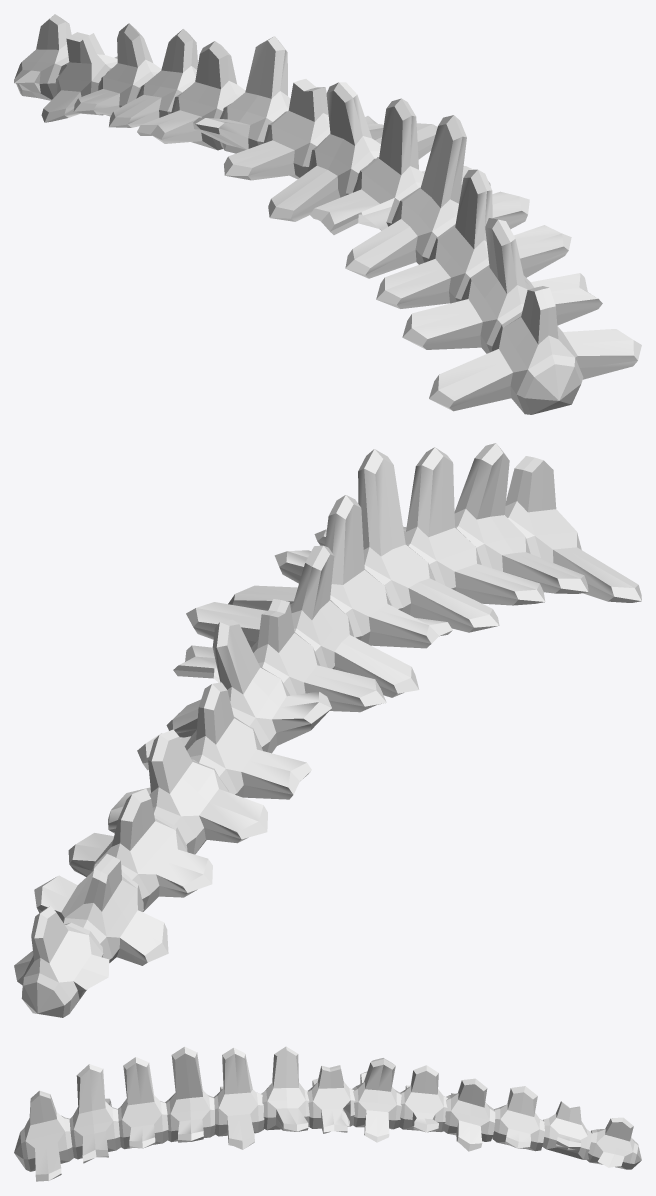
The model's file is Drg_Bone_01.FBX.
The picture shows the model from 3 angles, top to bottom: view 1: azimuth 30°, elevation 25°; view 2: azimuth 150°, elevation 25°; view 3: azimuth 270°, elevation 25°; orthographic projection. The views are drawn at different scales.
Visible parts, largest first — view 1: Drg_Bone_01; view 2: Drg_Bone_01; view 3: Drg_Bone_01.
Boxes of the visible parts, <box> form: Drg_Bone_01: <box>14,14,641,414</box>; Drg_Bone_01: <box>14,443,641,1017</box>; Drg_Bone_01: <box>14,1046,641,1181</box>.
Size of the model in its own units: 6.55 by 6.44 by 26.19.
